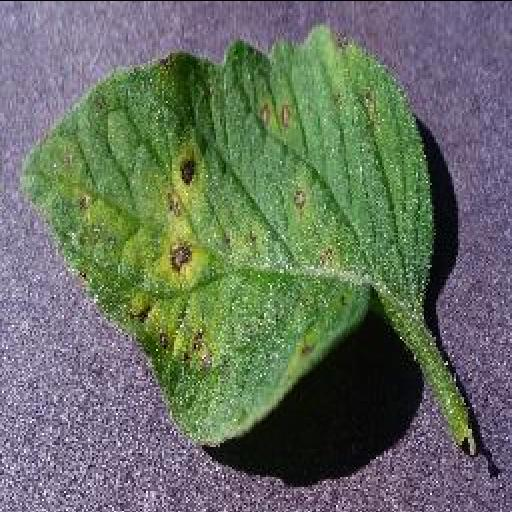disease_tomato: (25, 26, 439, 450)
